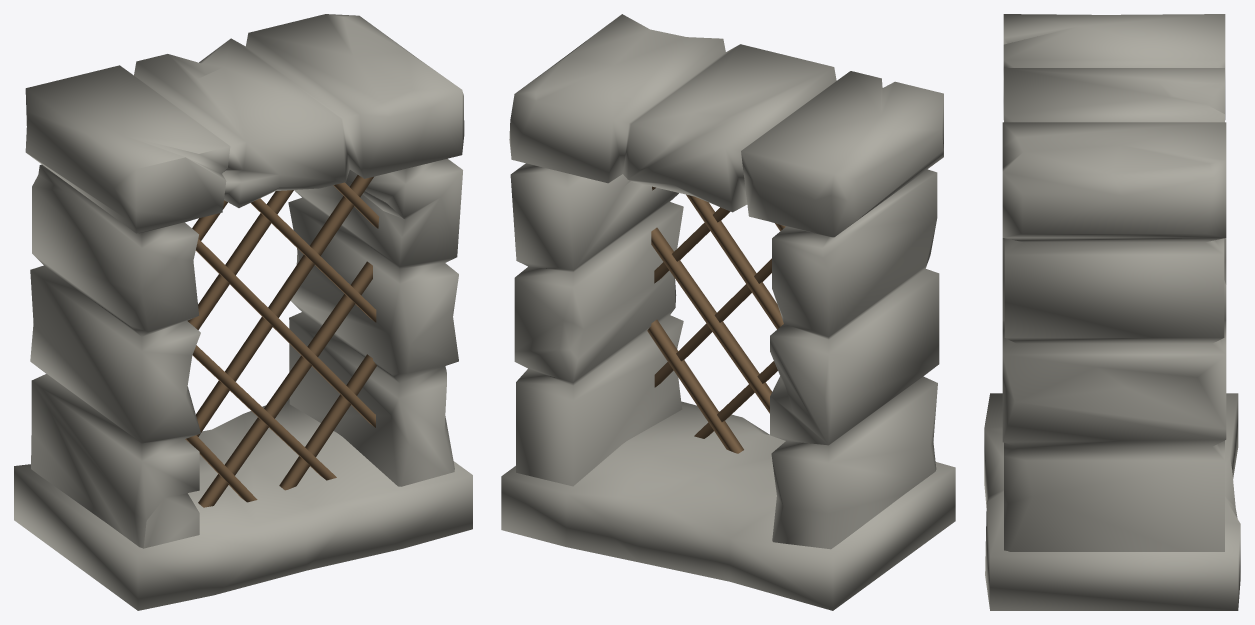
File: rpgpp_ag_window_06c.fbx
3 renders of one model, left to right at view 1: azimuth 30°, elevation 25°; view 2: azimuth 150°, elevation 25°; view 3: azimuth 270°, elevation 25°, orthographic.
Visible parts, largest first — view 1: rpgpp_ag_window_06c; view 2: rpgpp_ag_window_06c; view 3: rpgpp_ag_window_06c.
Part boxes in pixels (box(x1,y1,x2,y2)): rpgpp_ag_window_06c: box(14, 14, 472, 610); rpgpp_ag_window_06c: box(501, 14, 955, 610); rpgpp_ag_window_06c: box(984, 14, 1240, 610).
Size of the model in its own units: 1.23 by 1.46 by 0.7712.
